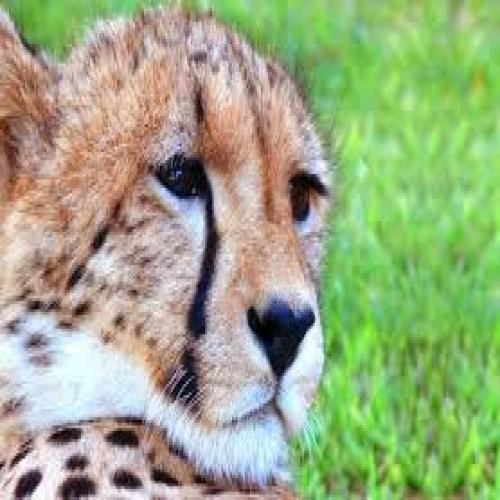cheetah-endangered: (0, 17, 327, 500)
